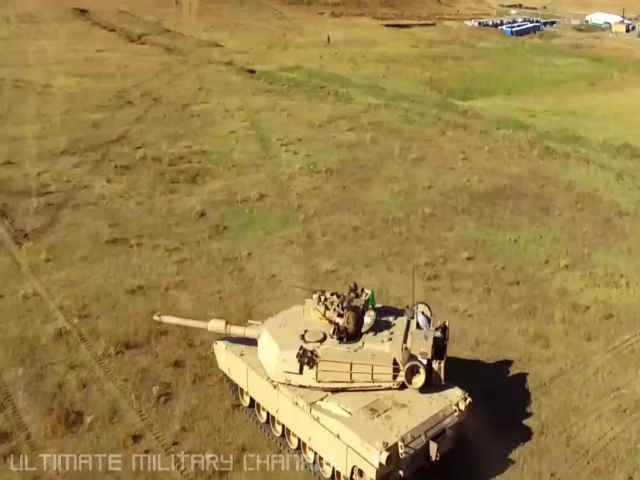vehicle: (211, 291, 470, 480)
